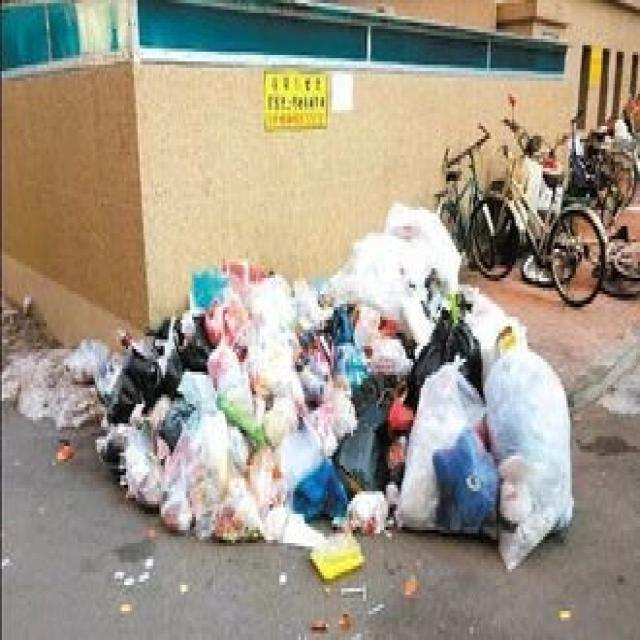garbage: (91, 194, 574, 579)
